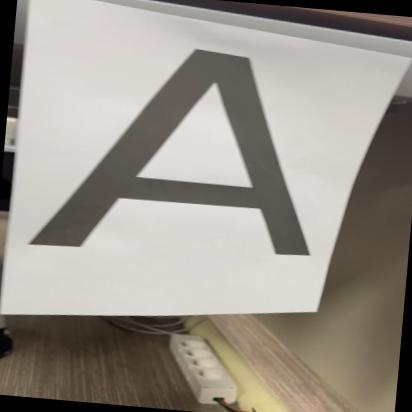seat: (21, 29, 338, 283)
